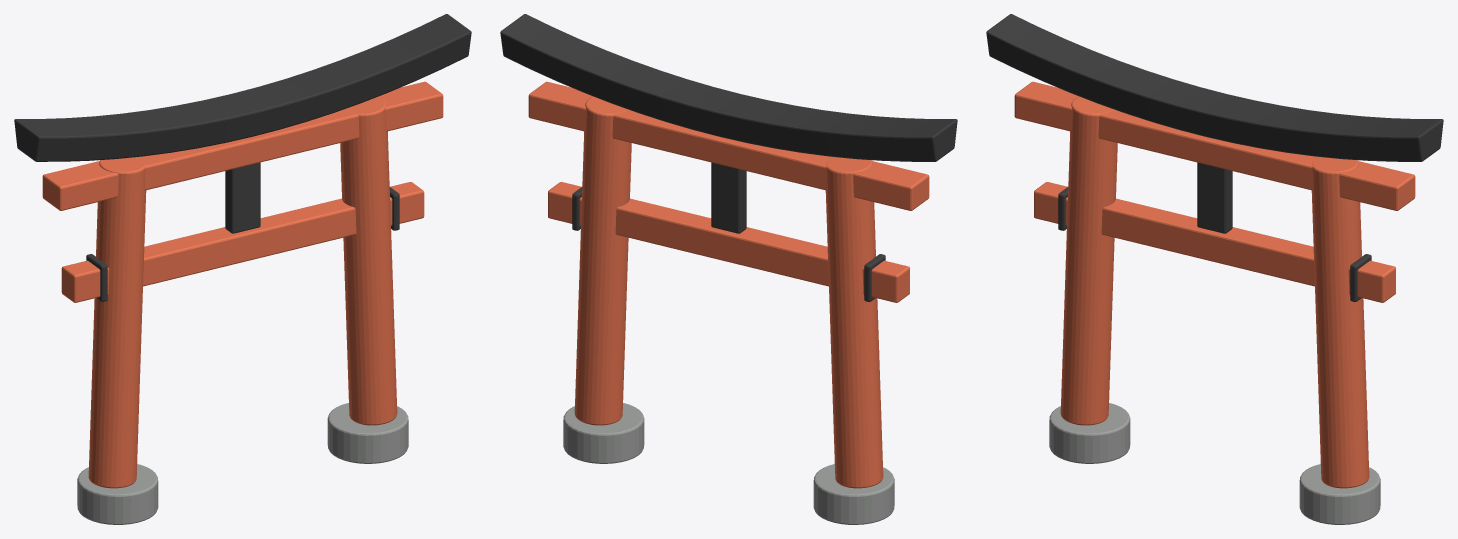
Rendered from torii_01.glb.
3 renders of one model, left to right at view 1: azimuth 30°, elevation 25°; view 2: azimuth 150°, elevation 25°; view 3: azimuth 330°, elevation 25°, orthographic.
Parts seen in each view (by area): view 1: Torii_Gate_01; view 2: Torii_Gate_01; view 3: Torii_Gate_01.
Part boxes in pixels (x1,y1,x2,y2): Torii_Gate_01: [14, 14, 471, 524]; Torii_Gate_01: [500, 14, 957, 524]; Torii_Gate_01: [986, 14, 1443, 524].
Size of the model in its own units: 5.2 by 4.62 by 0.84.
